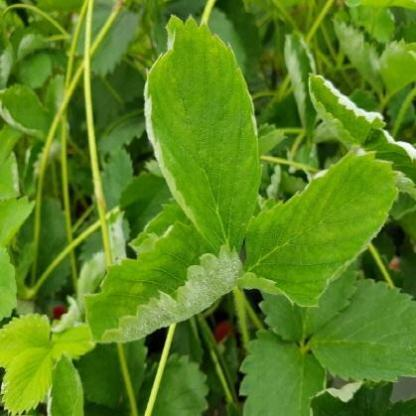Strawberry_Powdery_Mildew_Leaf: (141, 12, 265, 256), (237, 149, 400, 308), (80, 221, 244, 343), (308, 72, 389, 152), (284, 30, 318, 140), (364, 129, 415, 201)
